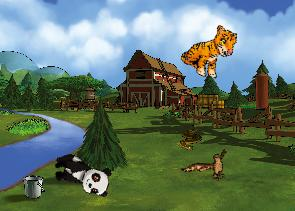eagle: (180, 137, 239, 195)
panda: (48, 150, 115, 199)
tiger: (177, 16, 241, 84)
